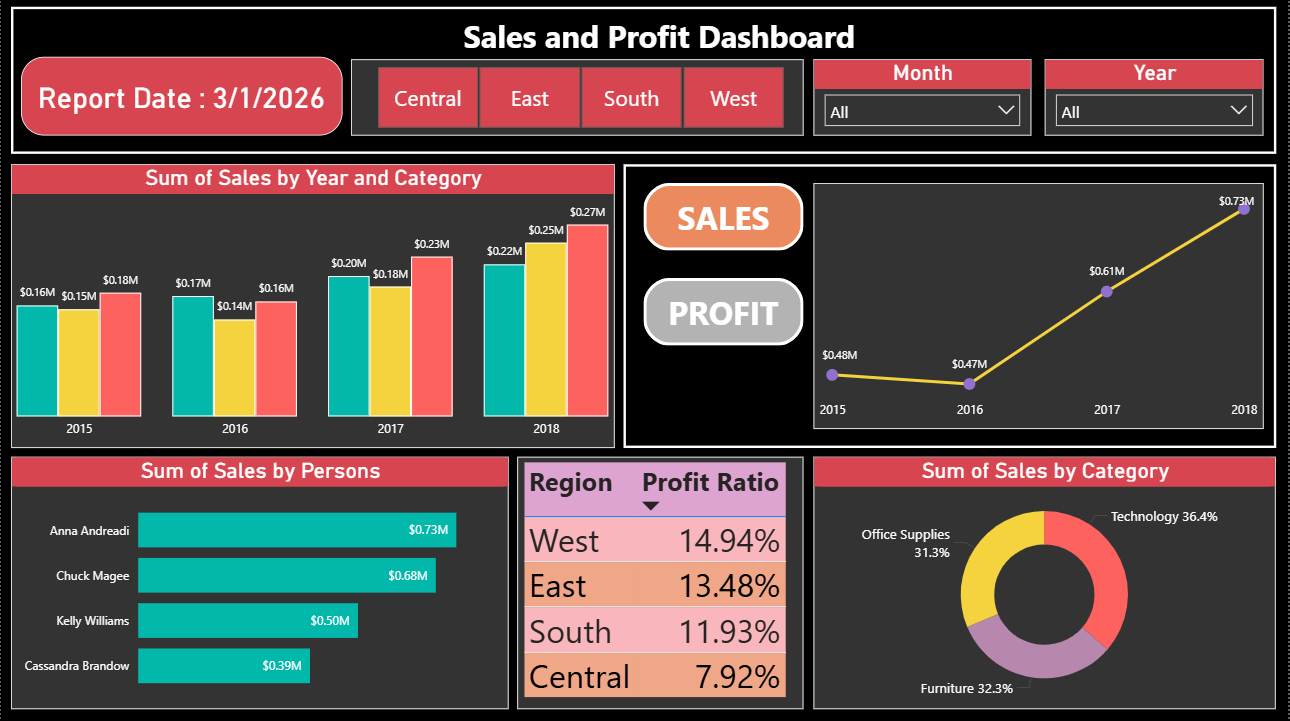

This screenshot's page, from the dashboard's own definition file:
{"tool":"powerbi","page":{"name":"Sales_Profit_Dashboard","canvas":[1280,720],"ordinal":0},"visuals":[{"type":"shape","box":[10,8.7,1258.9,146.8],"z":0},{"type":"shape","box":[619.5,165.4,649.3,282.4],"z":1000},{"type":"barChart","title":"Sum of Sales by Persons","fields":{"Category":["People.Person"],"Y":["Sum(Orders.Sales)"]},"box":[10,456.5,495.1,251.3],"z":2000},{"type":"tableEx","fields":{"Values":["Orders.Region","Orders.Profit Ratio"]},"box":[513.8,456.5,284.9,251.3],"z":3000},{"type":"donutChart","fields":{"Category":["Orders.Category"],"Y":["Sum(Orders.Sales)"]},"box":[808.6,456.5,460.3,251.3],"z":4000},{"type":"clusteredColumnChart","fields":{"Category":["Date Table.Year"],"Y":["Sum(Orders.Sales)"],"Series":["Orders.Category"]},"box":[10,165.4,600.8,282.4],"z":5000},{"type":"lineChart","fields":{"Category":["Date Table.Year"],"Y":["Sum(Orders.Sales)"]},"box":[808.6,184.1,447.8,245.1],"z":6000},{"type":"actionButton","title":"Sales Red","box":[639.4,184.1,159.2,67.2],"z":8000},{"type":"actionButton","title":"Profit G","box":[639.4,278.6,159.2,67.2],"z":11000},{"type":"slicer","title":"Year","fields":{"Values":["Date Table.Year"]},"box":[1038.7,61,217.7,75.9],"z":12000},{"type":"slicer","title":"Month","fields":{"Values":["Date Table.Month Name"]},"box":[808.6,61,216.4,75.9],"z":13000},{"type":"slicer","fields":{"Values":["Orders.Region"]},"box":[348.3,61,450.3,75.9],"z":14000},{"type":"card","fields":{"Values":["Date Table.Report Date"]},"box":[19.9,58.5,319.7,78.4],"z":15000},{"type":"shape","box":[449.1,16.2,411.8,42.3],"z":16000}]}

Visuals, with their boxes in screenshot pixels (x1, y1, x2, y2), scaled from the page's 1280x720 canvas onto the 1290x721 screenshot:
shape: (10,9,1279,156)
shape: (624,166,1279,448)
"Sum of Sales by Persons" barChart: (10,457,509,709)
tableEx - Orders.Region x Orders.Profit Ratio: (518,457,805,709)
donutChart - Orders.Category x Sum(Orders.Sales): (815,457,1279,709)
clusteredColumnChart - Date Table.Year x Sum(Orders.Sales): (10,166,616,448)
lineChart - Date Table.Year x Sum(Orders.Sales): (815,184,1266,430)
"Sales Red" actionButton: (644,184,805,252)
"Profit G" actionButton: (644,279,805,346)
"Year" slicer: (1047,61,1266,137)
"Month" slicer: (815,61,1033,137)
slicer - Orders.Region: (351,61,805,137)
card - Date Table.Report Date: (20,59,342,137)
shape: (453,16,868,59)
